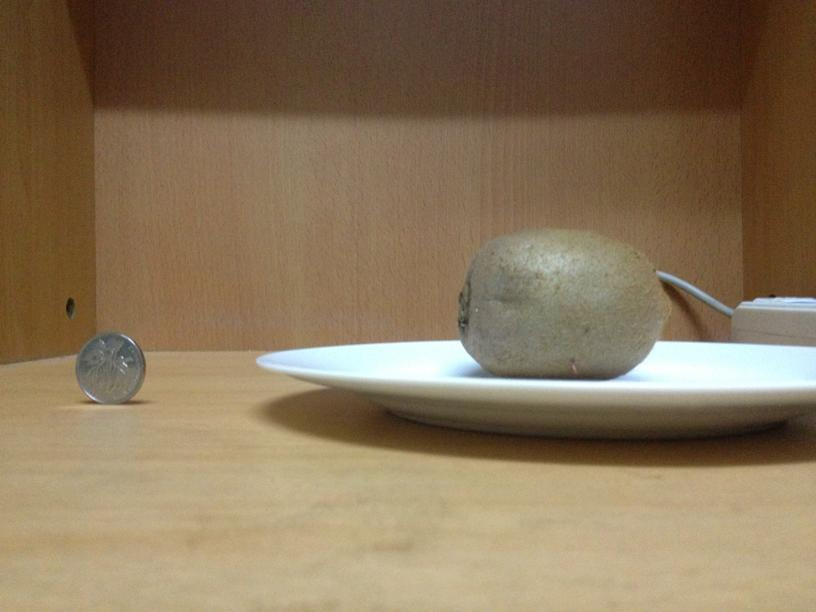coin: (71, 332, 149, 405)
qiwi: (448, 231, 675, 382)
